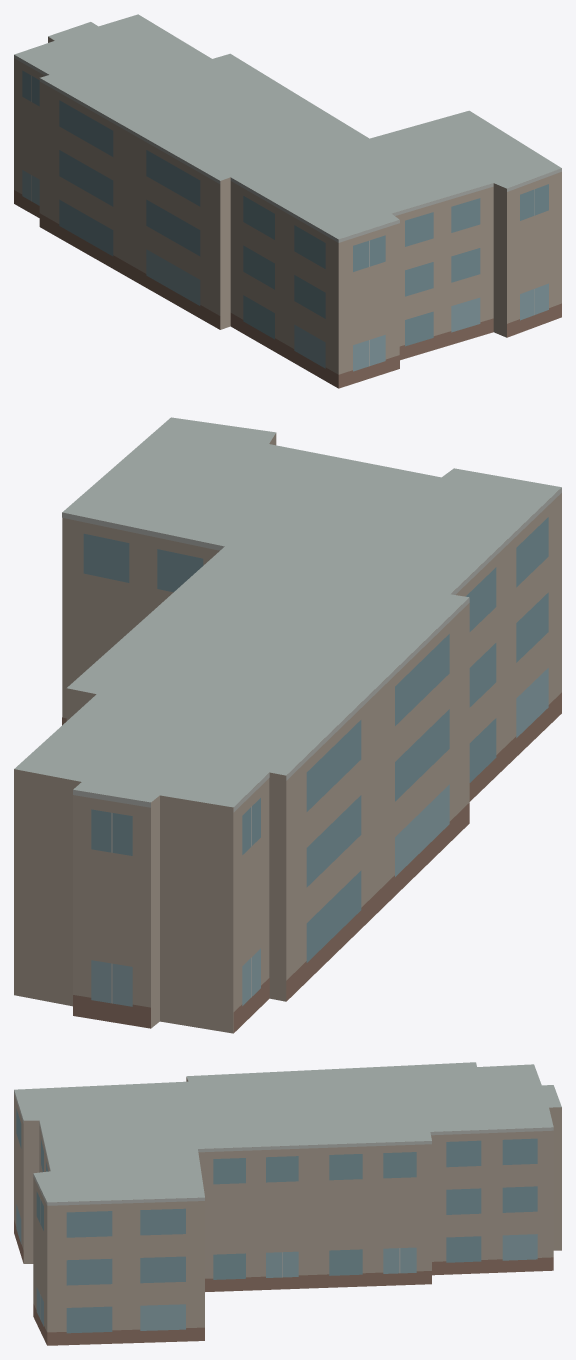
File: survey-upis-33039531.glb
3 renders of one model, top to bottom at view 1: azimuth 30°, elevation 25°; view 2: azimuth 150°, elevation 25°; view 3: azimuth 270°, elevation 25°, orthographic. The views are drawn at different scales.
Visible parts, largest first — view 1: survey-upis-33039531.tmp; view 2: survey-upis-33039531.tmp; view 3: survey-upis-33039531.tmp.
Part boxes in pixels (x1,y1,x2,y2): survey-upis-33039531.tmp: (14, 14, 561, 388); survey-upis-33039531.tmp: (14, 417, 561, 1033); survey-upis-33039531.tmp: (14, 1062, 561, 1345).
Size of the model in its own units: 21.84 by 10.4 by 36.04.
